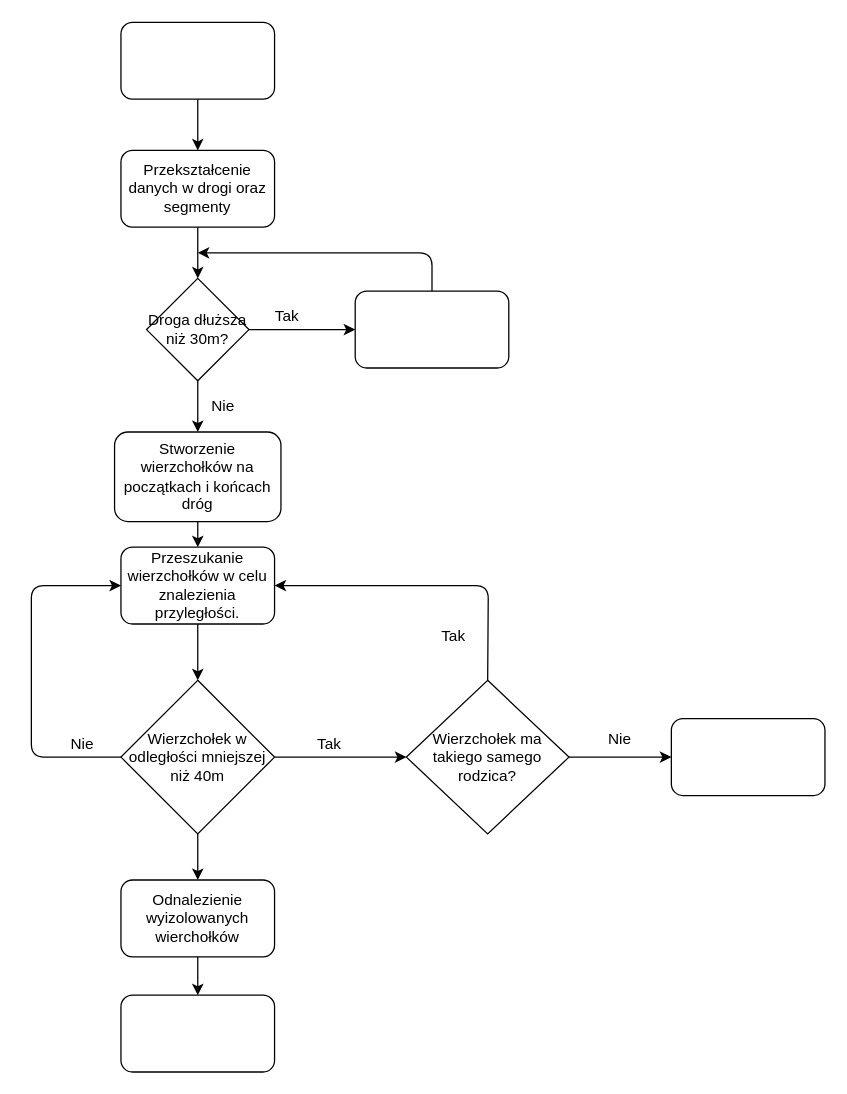
Image size: 847x1094. Some labels were removed from this diagram. Here are the shapes that lost their labels. From the top down, the box of each, then its label:
(120, 21, 275, 99): Pobranie danych CartoDB
(354, 290, 509, 368): Podział drogi na dwie równe części
(670, 717, 825, 796): Stwórz połączenie pomiędzy wierzchołkami.
(120, 994, 275, 1072): Przypisanie dróg biegnących w dwóch kierunkach.
